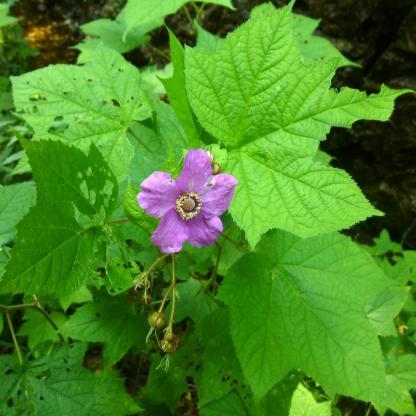Raspberry leaf: (181, 12, 416, 247), (222, 231, 414, 416), (0, 125, 148, 306)
